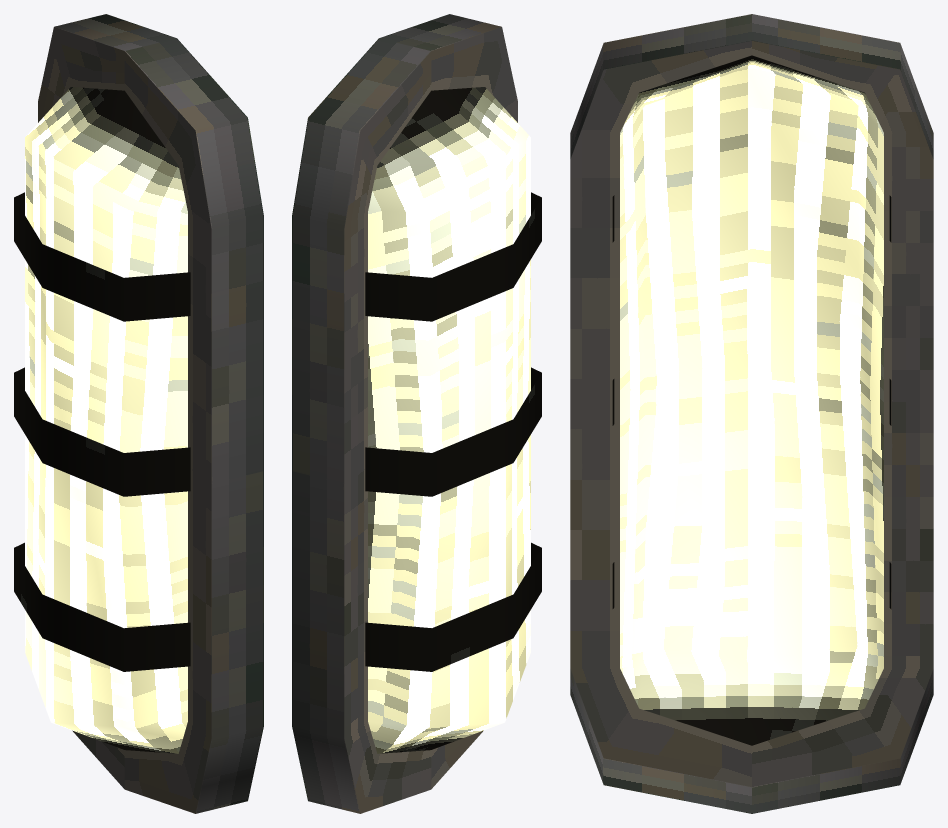
Rendered from SM_LIGHT_02.fbx.
The picture shows the model from 3 angles, left to right: view 1: azimuth 30°, elevation 25°; view 2: azimuth 150°, elevation 25°; view 3: azimuth 270°, elevation 25°; orthographic projection. The views are drawn at different scales.
Parts seen in each view (by area): view 1: SM_LIGHT_02; view 2: SM_LIGHT_02; view 3: SM_LIGHT_02.
Part boxes in pixels (bbox=[...]): SM_LIGHT_02: bbox=[14, 14, 263, 813]; SM_LIGHT_02: bbox=[292, 14, 541, 813]; SM_LIGHT_02: bbox=[570, 14, 933, 813].
Bounding box in the file's own units: 0.1286 × 0.6743 × 0.2873.
